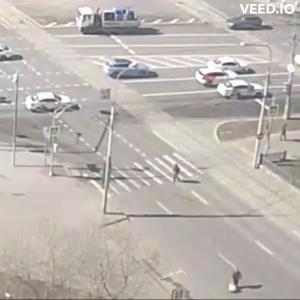car: (79, 6, 147, 36), (108, 61, 160, 82), (205, 58, 257, 78), (219, 79, 266, 100), (27, 93, 65, 115), (198, 69, 237, 89), (230, 18, 264, 31), (1, 45, 14, 61)
